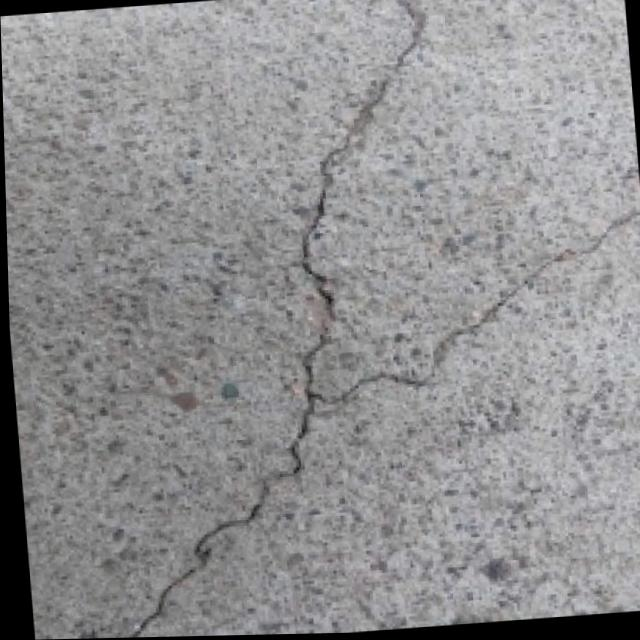Crack: (39, 0, 507, 639)
